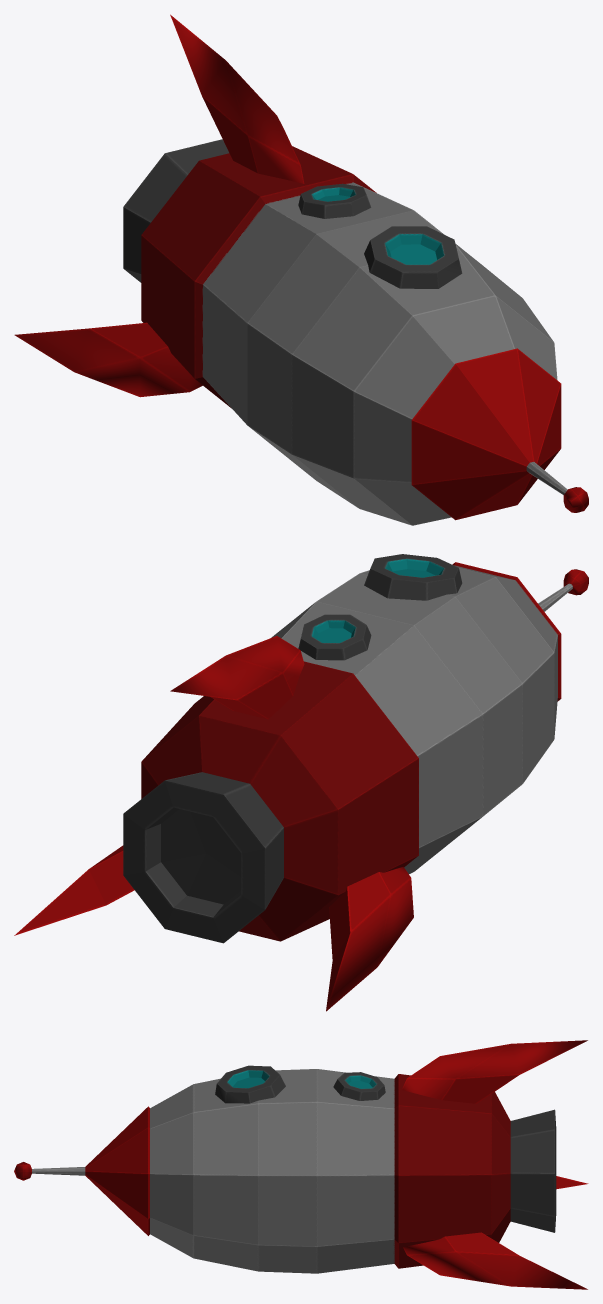
Rendered from rocket_ship.gltf.
3 views of the same model, one above another, from view 1: azimuth 30°, elevation 25°; view 2: azimuth 150°, elevation 25°; view 3: azimuth 270°, elevation 25° (orthographic). The views are drawn at different scales.
Visible parts, largest first — view 1: RocketShipMesh; view 2: RocketShipMesh; view 3: RocketShipMesh.
Boxes of the visible parts, box(x1,y1,x2,y2) form: RocketShipMesh: box(14, 14, 588, 525); RocketShipMesh: box(14, 554, 588, 1011); RocketShipMesh: box(14, 1040, 588, 1289).
Size of the model in its own units: 3.95 by 3.78 by 9.08.
Materials: 1 (1 with a texture image).
